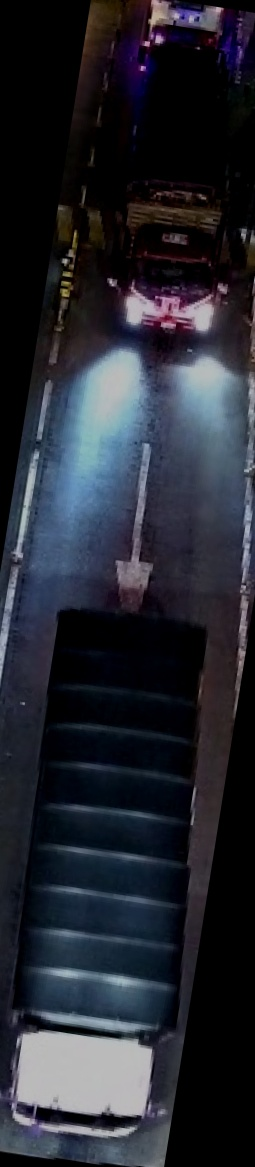truck: (0, 604, 236, 1151), (92, 53, 255, 343), (144, 0, 233, 58)
